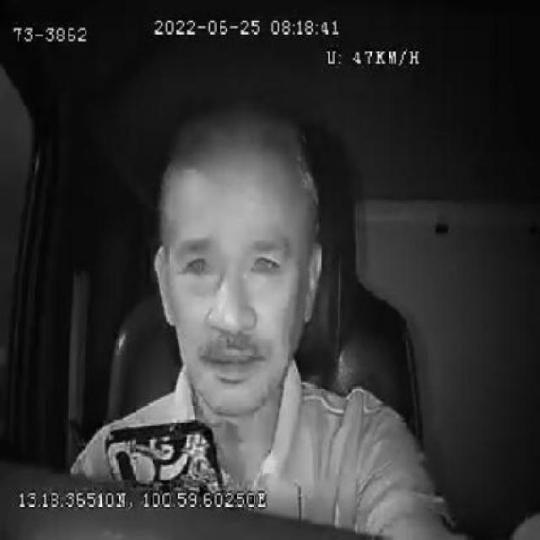phone: (102, 420, 226, 490)
